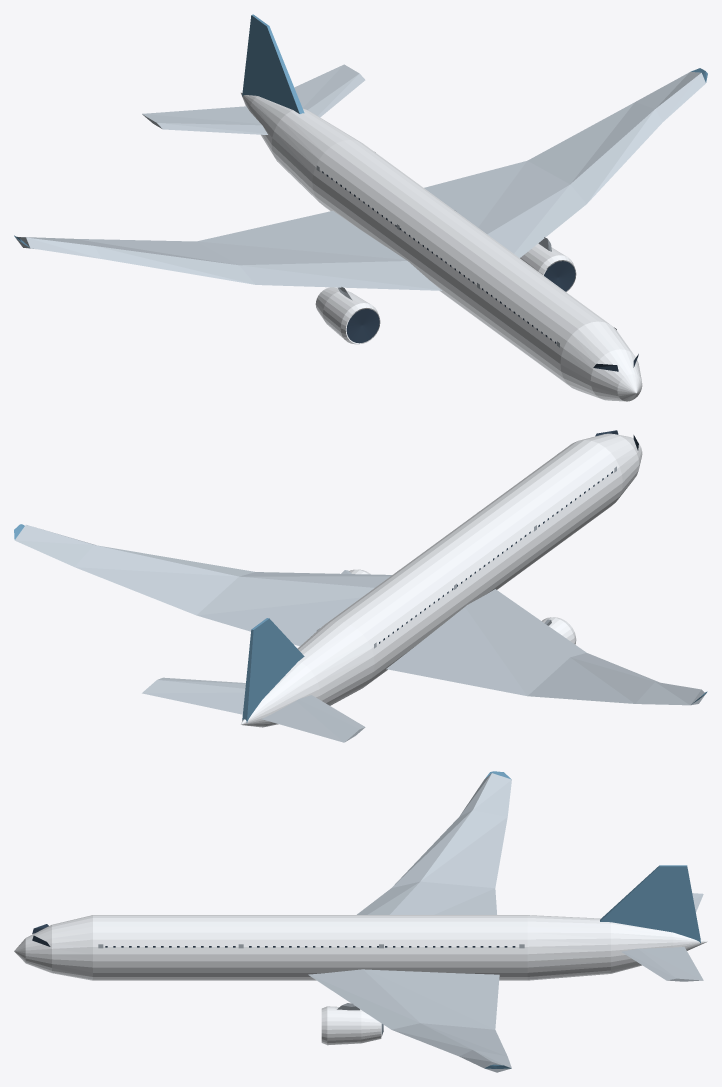
3 views of the same model, one above another, from view 1: azimuth 30°, elevation 25°; view 2: azimuth 150°, elevation 25°; view 3: azimuth 270°, elevation 25° (orthographic). The views are drawn at different scales.
Size of the model in its own units: 66 by 14.23 by 66.
